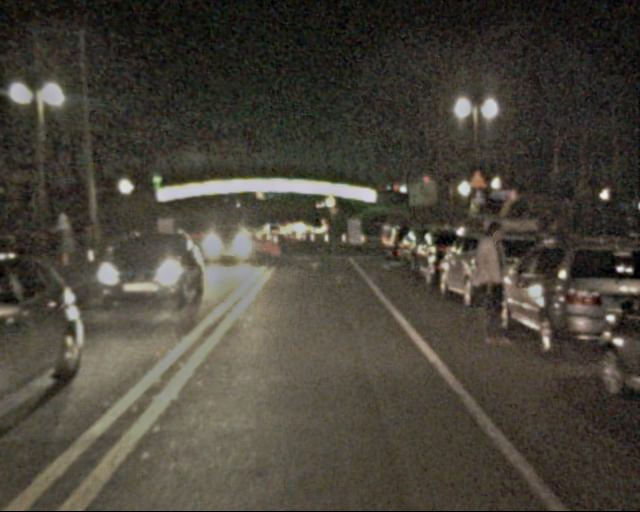person: (466, 221, 518, 345)
